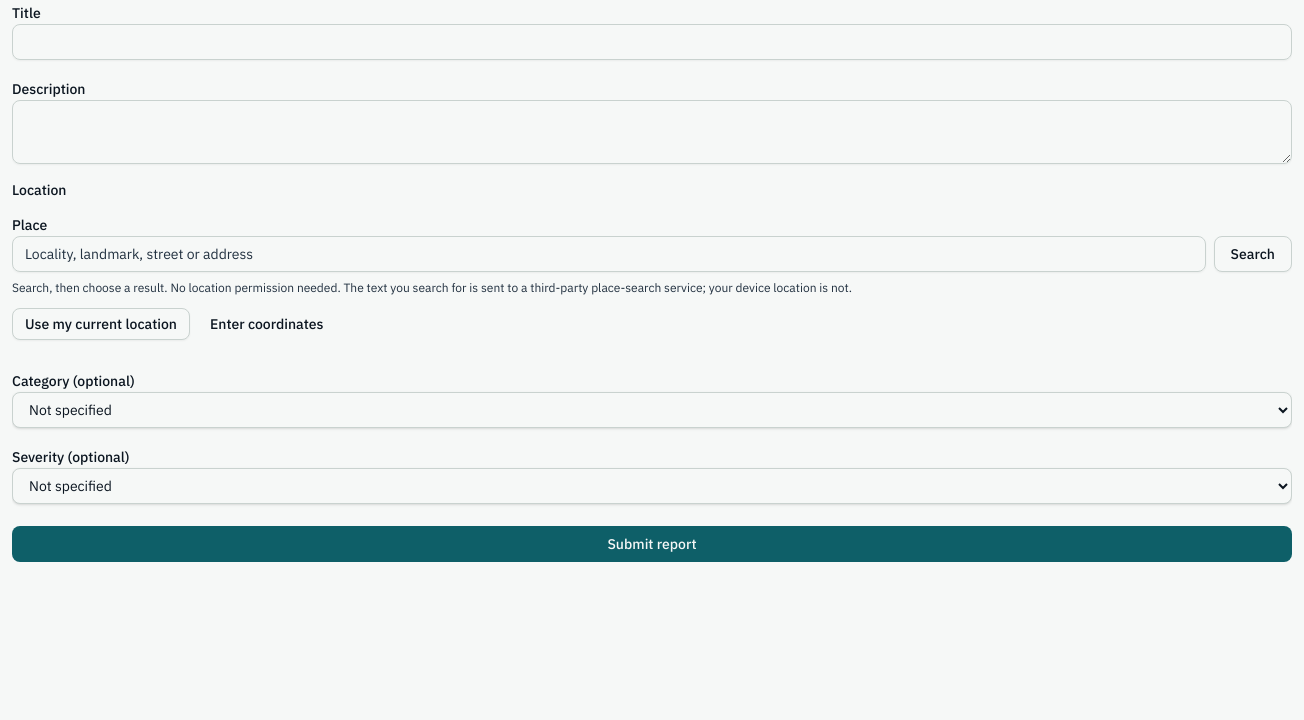
Test case: IssueReportForm › valid submission sends the contract payload and shows success
The width and height of the screenshot is (1304, 720).
Type "Leak" into the field labelled "Title" at (652, 42), box [12,24,1292,60]
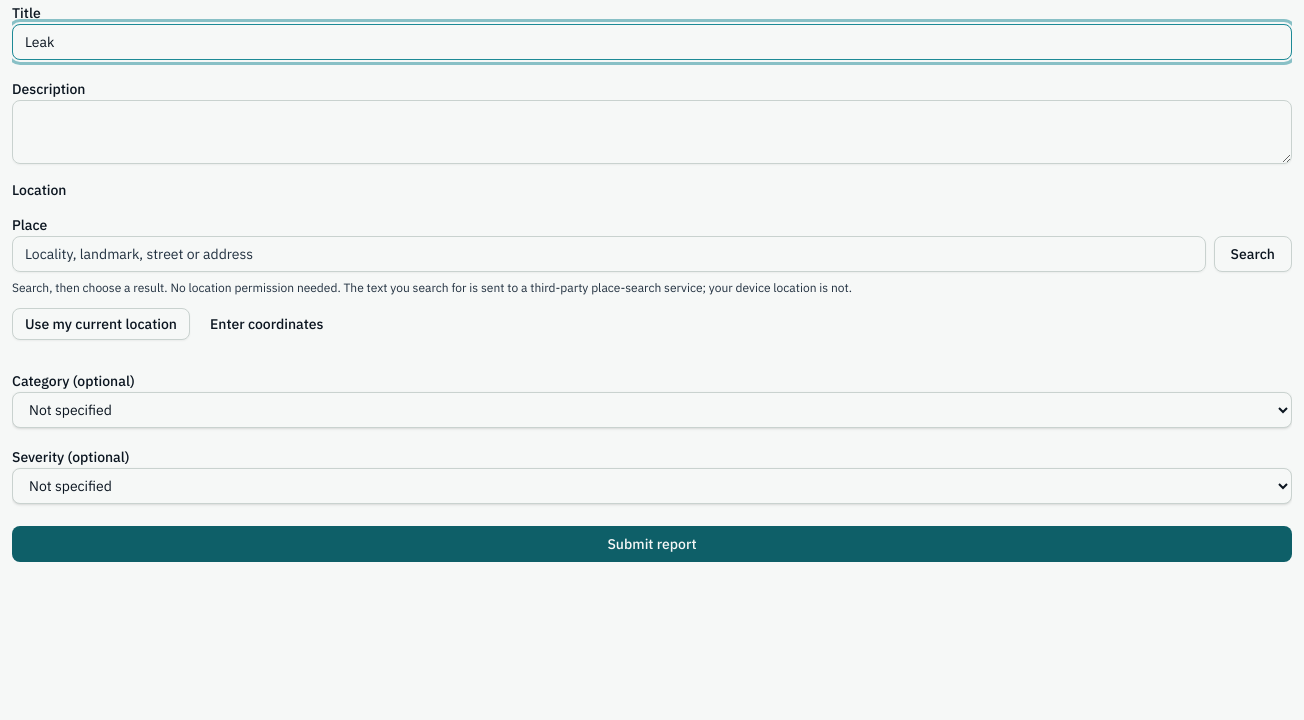
Type "Pipe burst" into the text box labelled "Description" at (652, 132), box [12,100,1292,164]
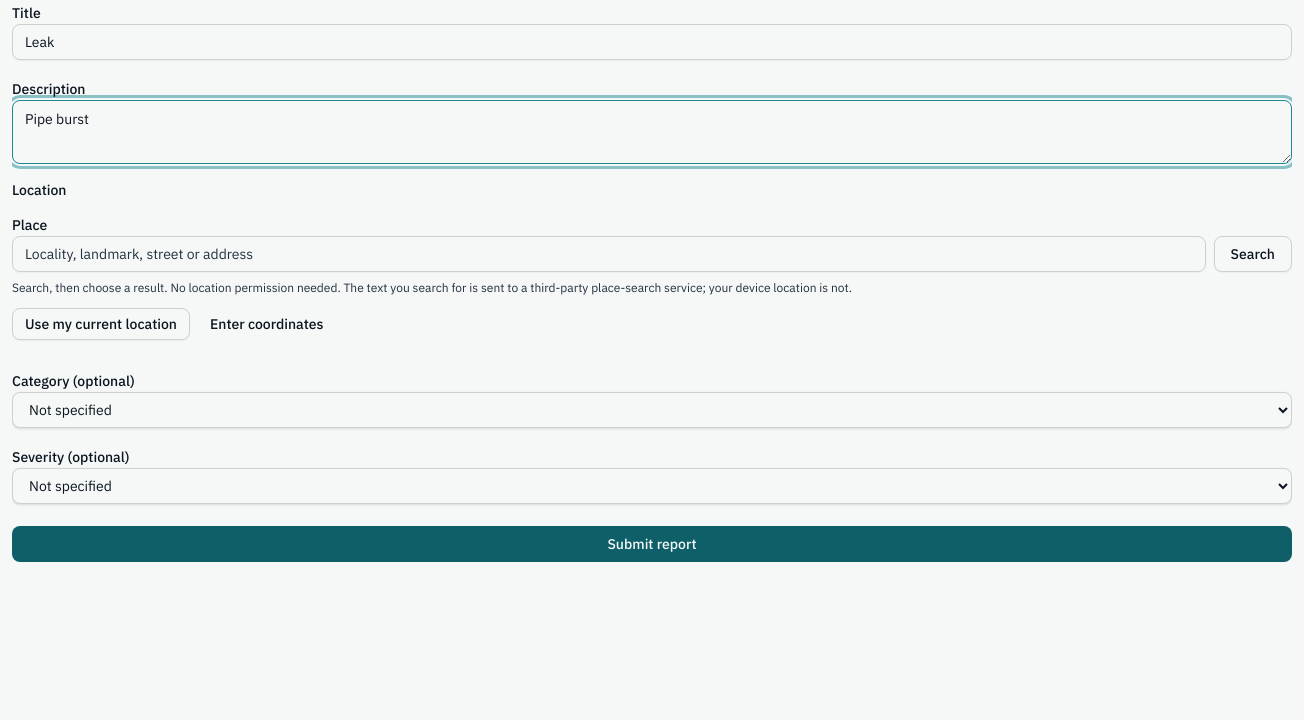
Click the button "Enter coordinates" at (267, 324), box [198,308,336,340]
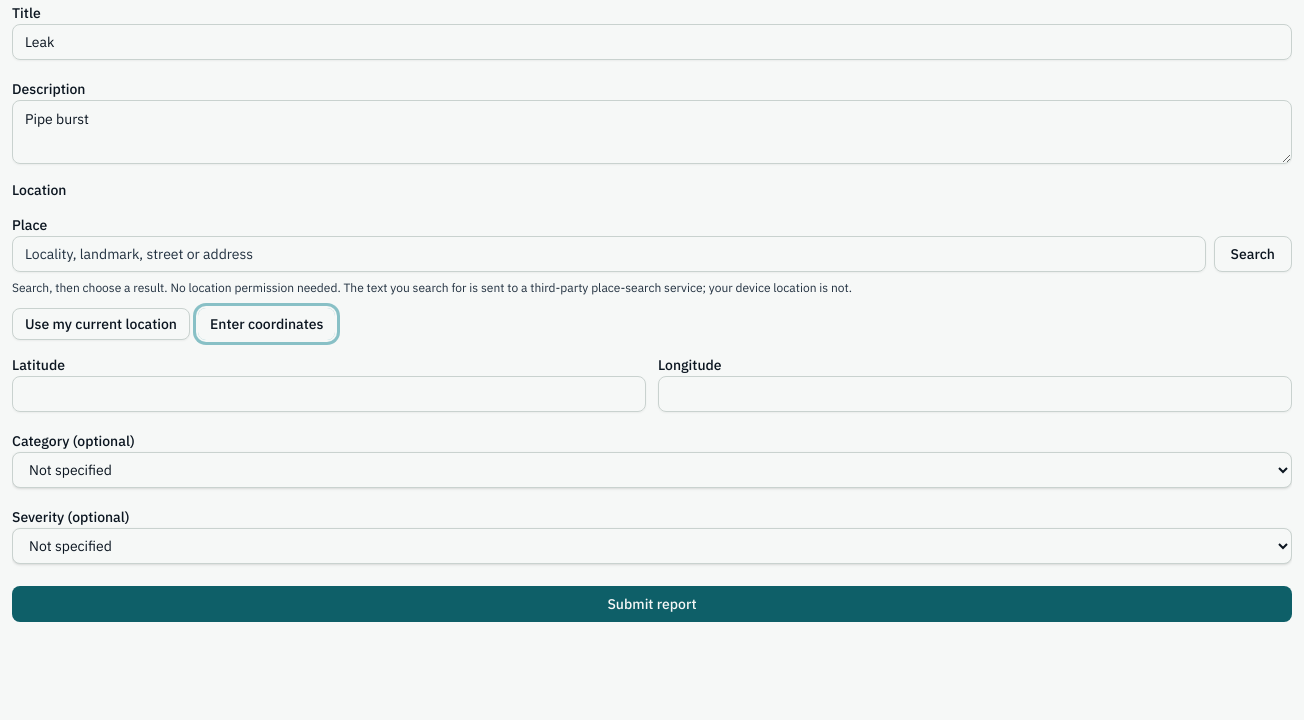
Type "12.9" into the field labelled "Latitude" at (329, 394), box [12,376,646,412]
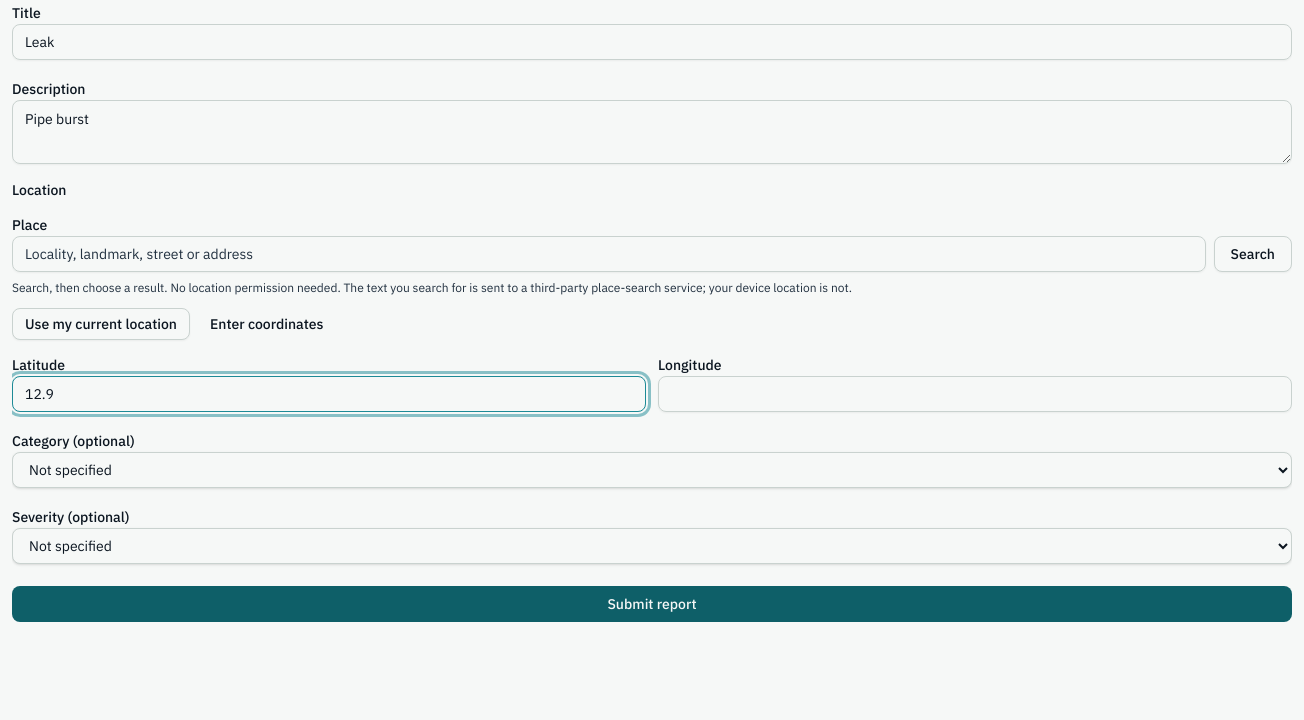
Type "77.5" into the field labelled "Longitude" at (975, 394), box [658,376,1292,412]
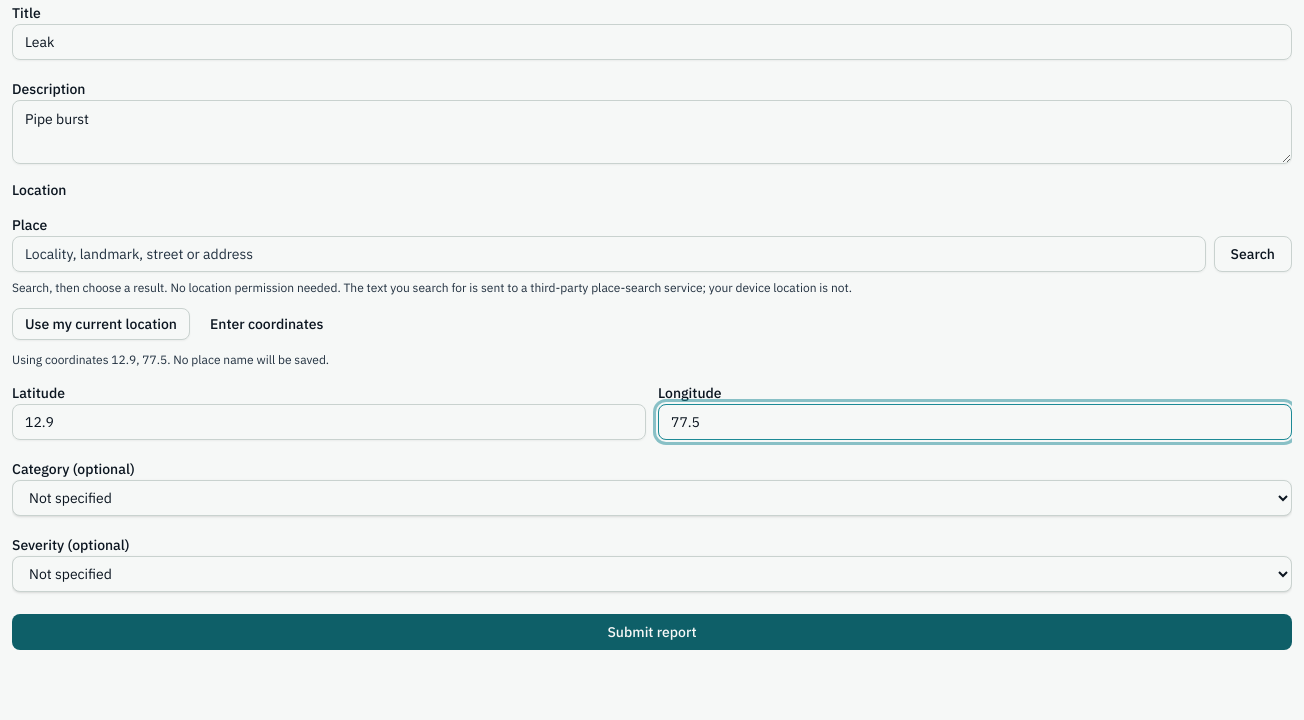
Click the button "Submit report" at (652, 632), box [12,614,1292,650]
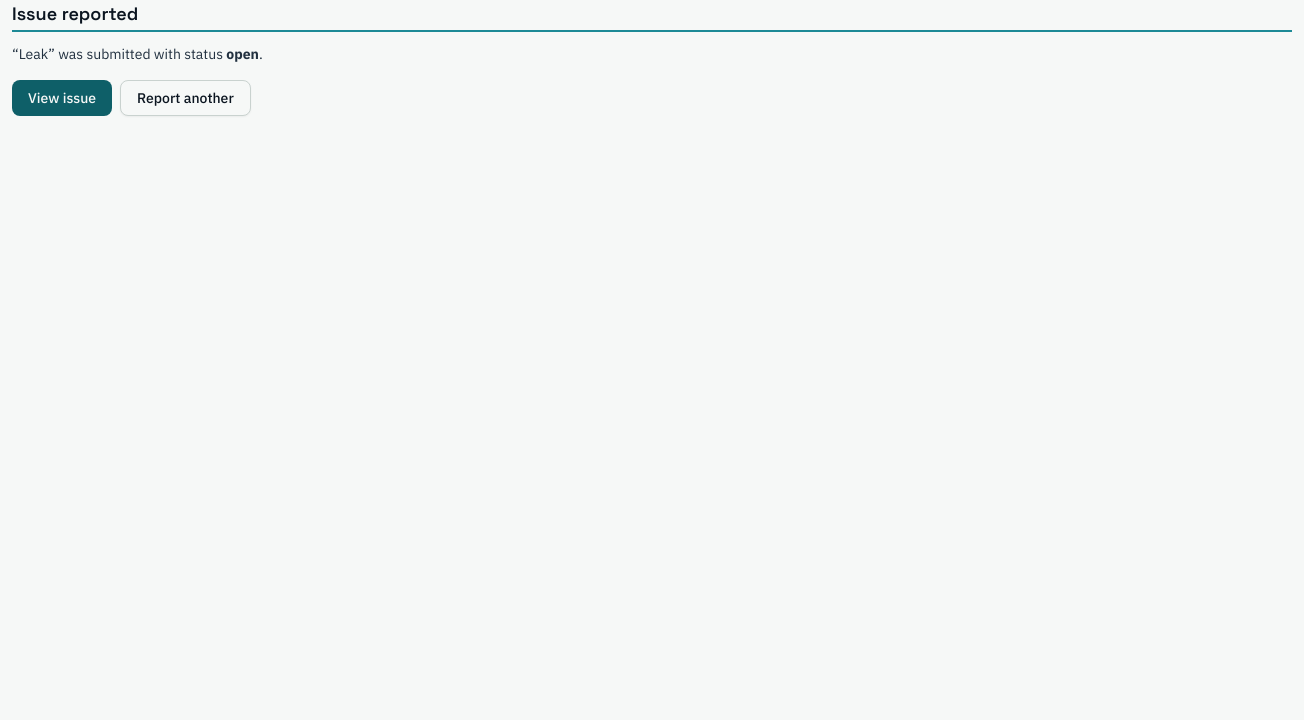
Now the heading "Issue reported" is shown, box [12,0,1292,28]
